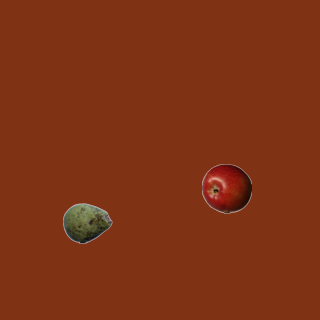Apple Braeburn: (201, 163, 251, 213)
Pear Stone: (62, 198, 112, 248)
